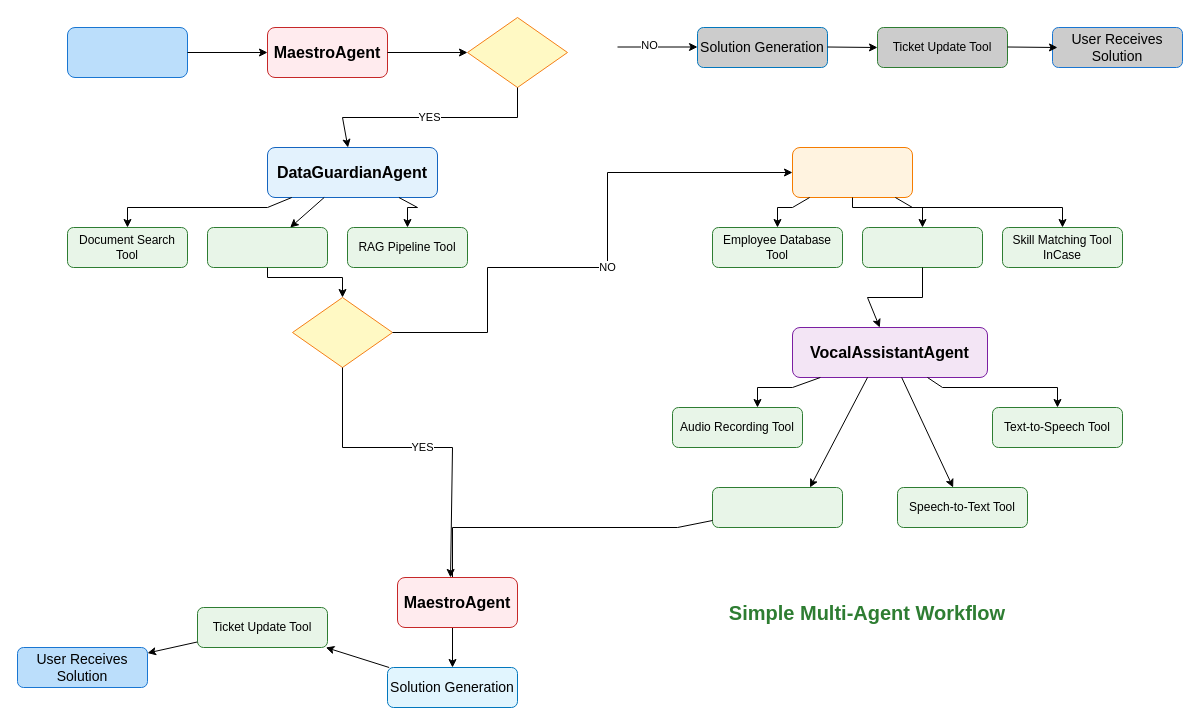
Image size: 1200x725. Some labels were removed from this diagram. The shapes that lost their labels are listed below. From the top down, each one's box as (x1, y1, x2, y2) in pixels, then its label:
(66, 26, 188, 78): User Submits Ticket
(466, 16, 568, 88): Decision: Need Docs?
(792, 146, 912, 198): HR_Agent
(206, 226, 328, 268): Vector Store Tool
(862, 226, 982, 268): Live Availability Tool
(292, 296, 392, 368): Solution Found?
(712, 486, 842, 528): Conversation Tool
